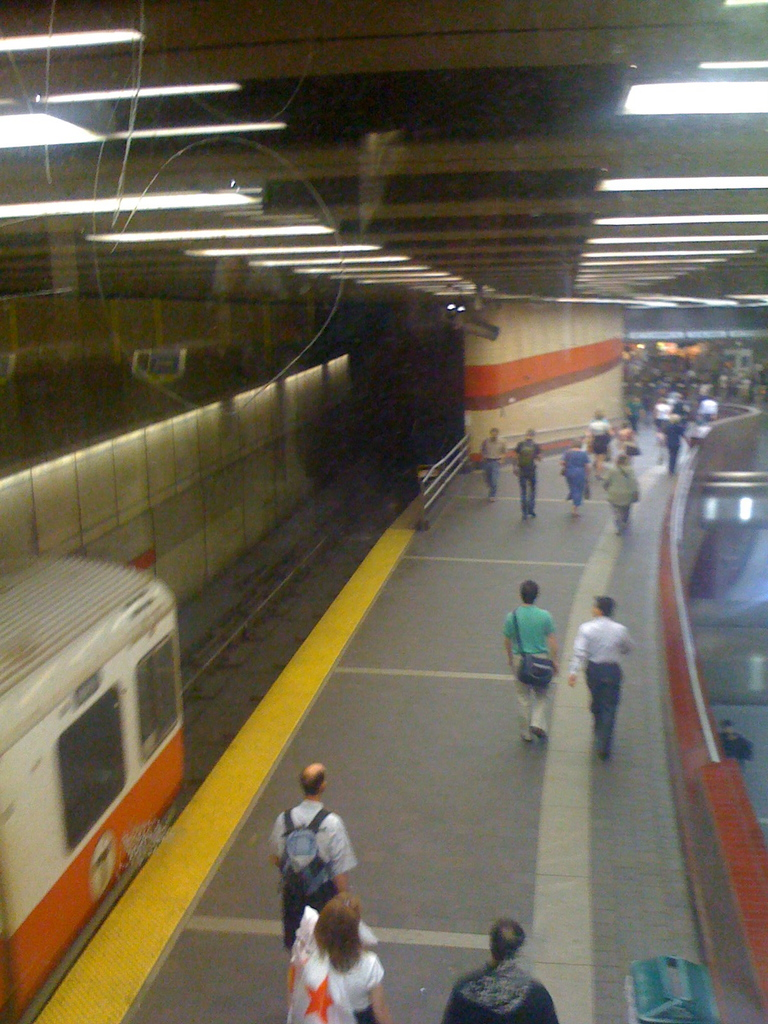Person: (269, 347, 768, 1024)
